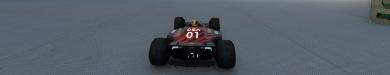Car: (148, 16, 236, 68)
Tree: (369, 0, 389, 27)
